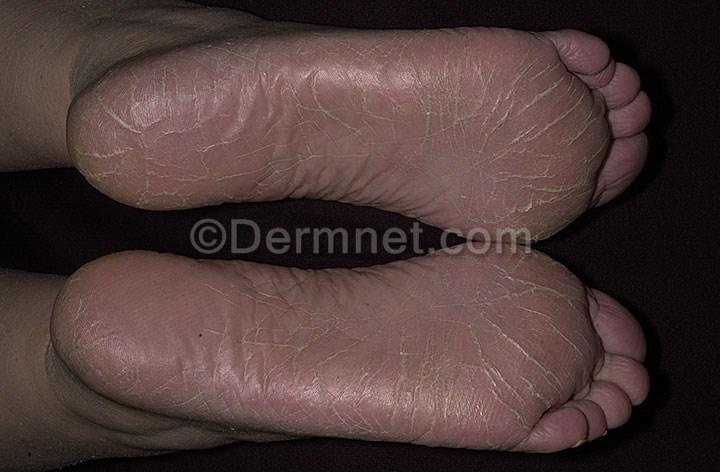liquenificacion 2: (99, 248, 600, 446), (99, 45, 604, 230)
xerosis 3: (82, 39, 616, 242), (76, 247, 598, 453)
